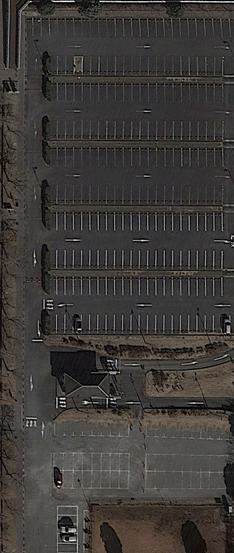parkingspot: (24, 16, 232, 38), (48, 276, 224, 298), (49, 146, 225, 168), (49, 210, 224, 232), (50, 184, 225, 206), (50, 248, 224, 270), (50, 120, 224, 142), (50, 82, 224, 104), (48, 314, 234, 334), (82, 54, 225, 77), (146, 453, 234, 474), (146, 422, 233, 442), (145, 471, 234, 490), (52, 451, 130, 472), (52, 469, 130, 490), (54, 419, 131, 438), (56, 506, 79, 553), (50, 55, 75, 76)
